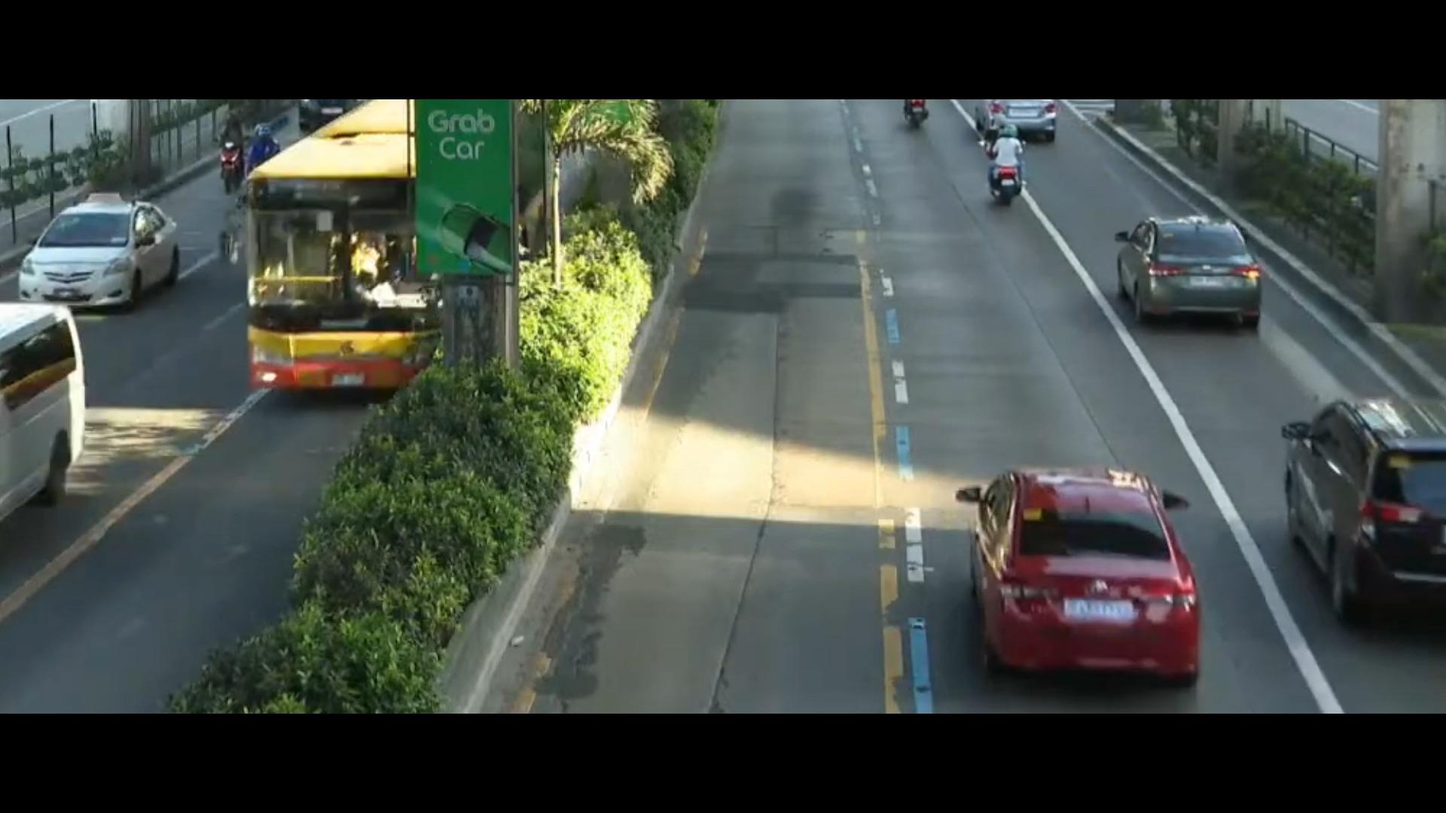Bus: (232, 102, 434, 431)
Motorcycle: (970, 123, 1045, 227), (200, 111, 260, 191), (965, 108, 1036, 172), (899, 93, 940, 143)
SUV: (1260, 333, 1446, 664)
Sedan: (925, 445, 1223, 702), (1107, 194, 1301, 351), (12, 179, 194, 309)
Van: (0, 286, 89, 550)
